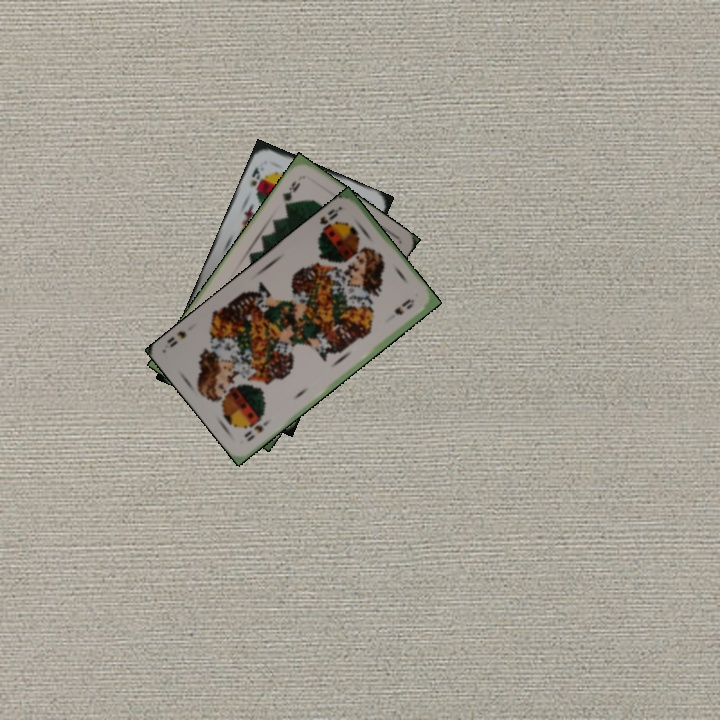G9: (278, 177, 303, 209)
SK: (246, 163, 263, 189)
SO: (315, 203, 344, 239), (240, 416, 272, 444)
